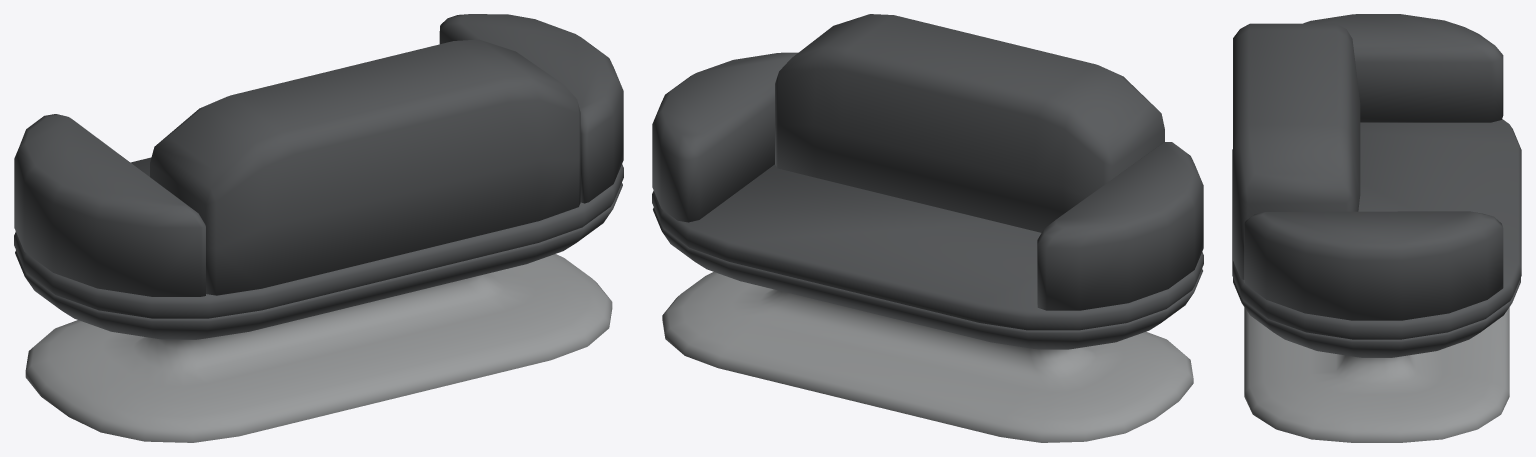
Rendered from Couch_Grey.fbx.
The picture shows the model from 3 angles, left to right: view 1: azimuth 30°, elevation 25°; view 2: azimuth 150°, elevation 25°; view 3: azimuth 270°, elevation 25°; orthographic projection. The views are drawn at different scales.
Visible parts, largest first — view 1: Couch; view 2: Couch; view 3: Couch.
Part boxes in pixels (x1,y1,x2,y2): Couch: (14,14,623,442); Couch: (652,14,1203,442); Couch: (1232,14,1521,442).
Bounding box in the file's own units: 160 × 79.34 × 82.11.
